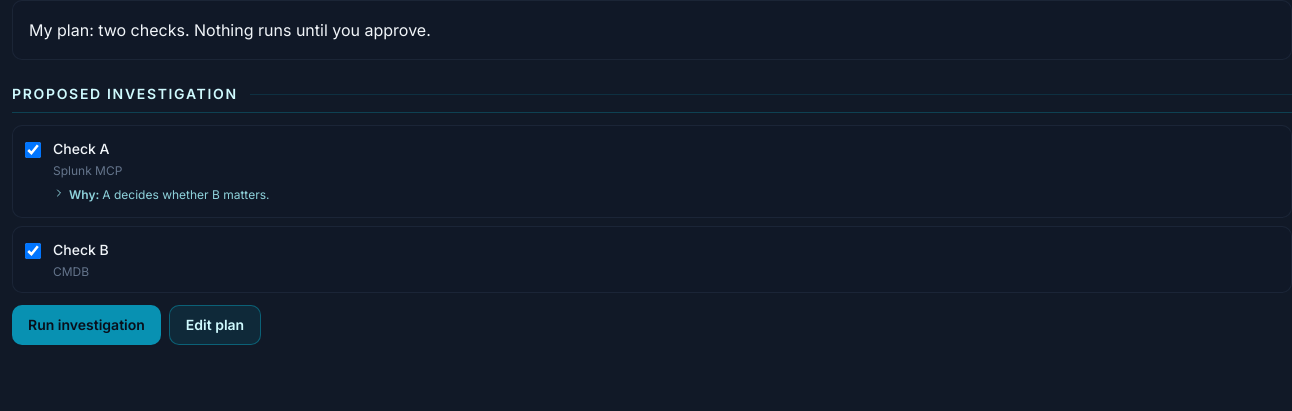
Test: EC CIO layer › shows a Why line only for steps that carry a rationale, with detail on demand
Expected: the text "A decides whether B matters." is shown, [102,187,270,202]
Expected: the text "Escalate or not." is not shown
Step 1. Click the button "Why: A decides whether B matters." → (161,195), box [53,185,270,204]
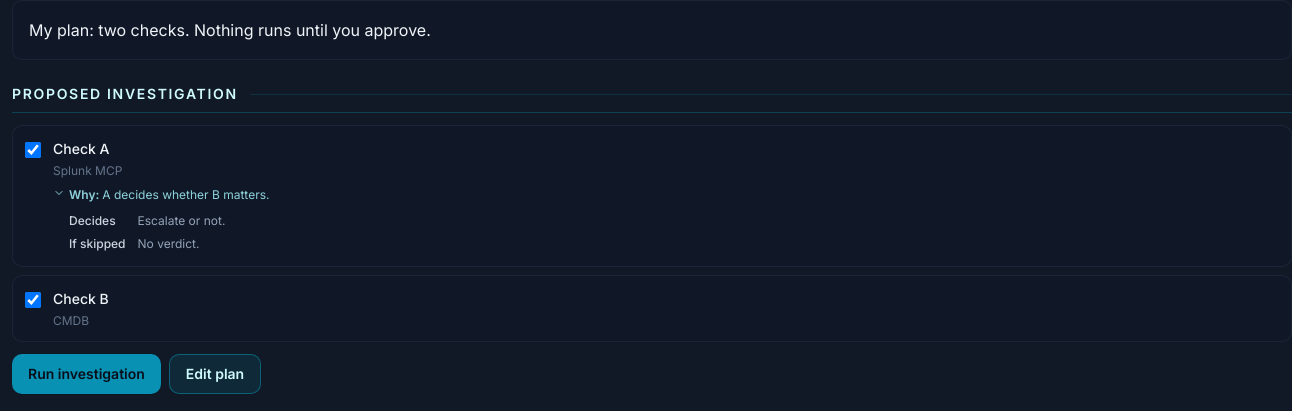
Now the text "Escalate or not." is shown, box [138,212,225,228]
